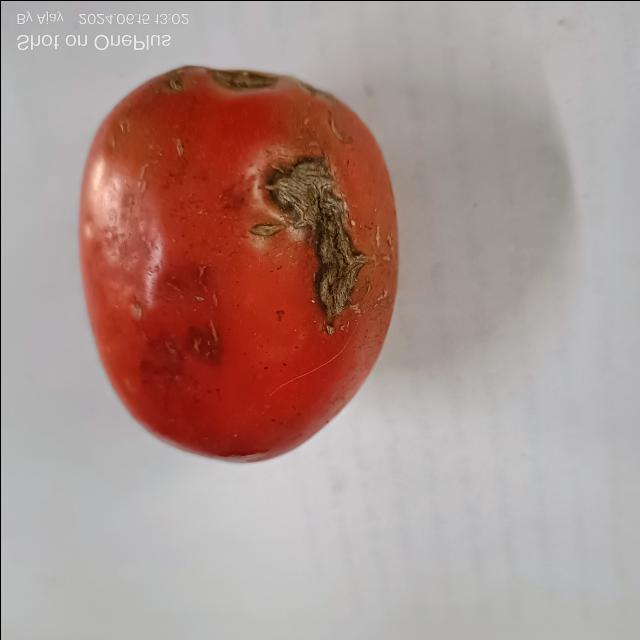Bacterial_Spot: (309, 174, 362, 332), (246, 157, 302, 236), (203, 71, 270, 89), (162, 72, 186, 92)
